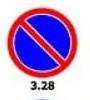road_sign: (5, 6, 79, 79)
